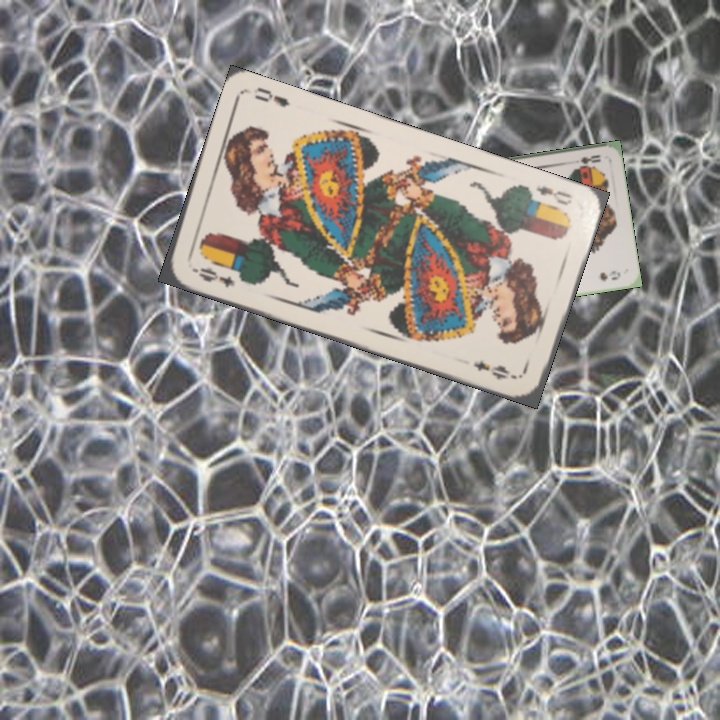EO: (187, 263, 238, 291), (531, 182, 575, 208)
SO: (575, 151, 604, 169)
